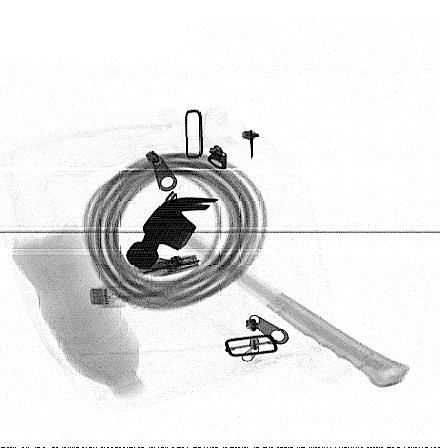Hammer: (125, 196, 411, 388)
